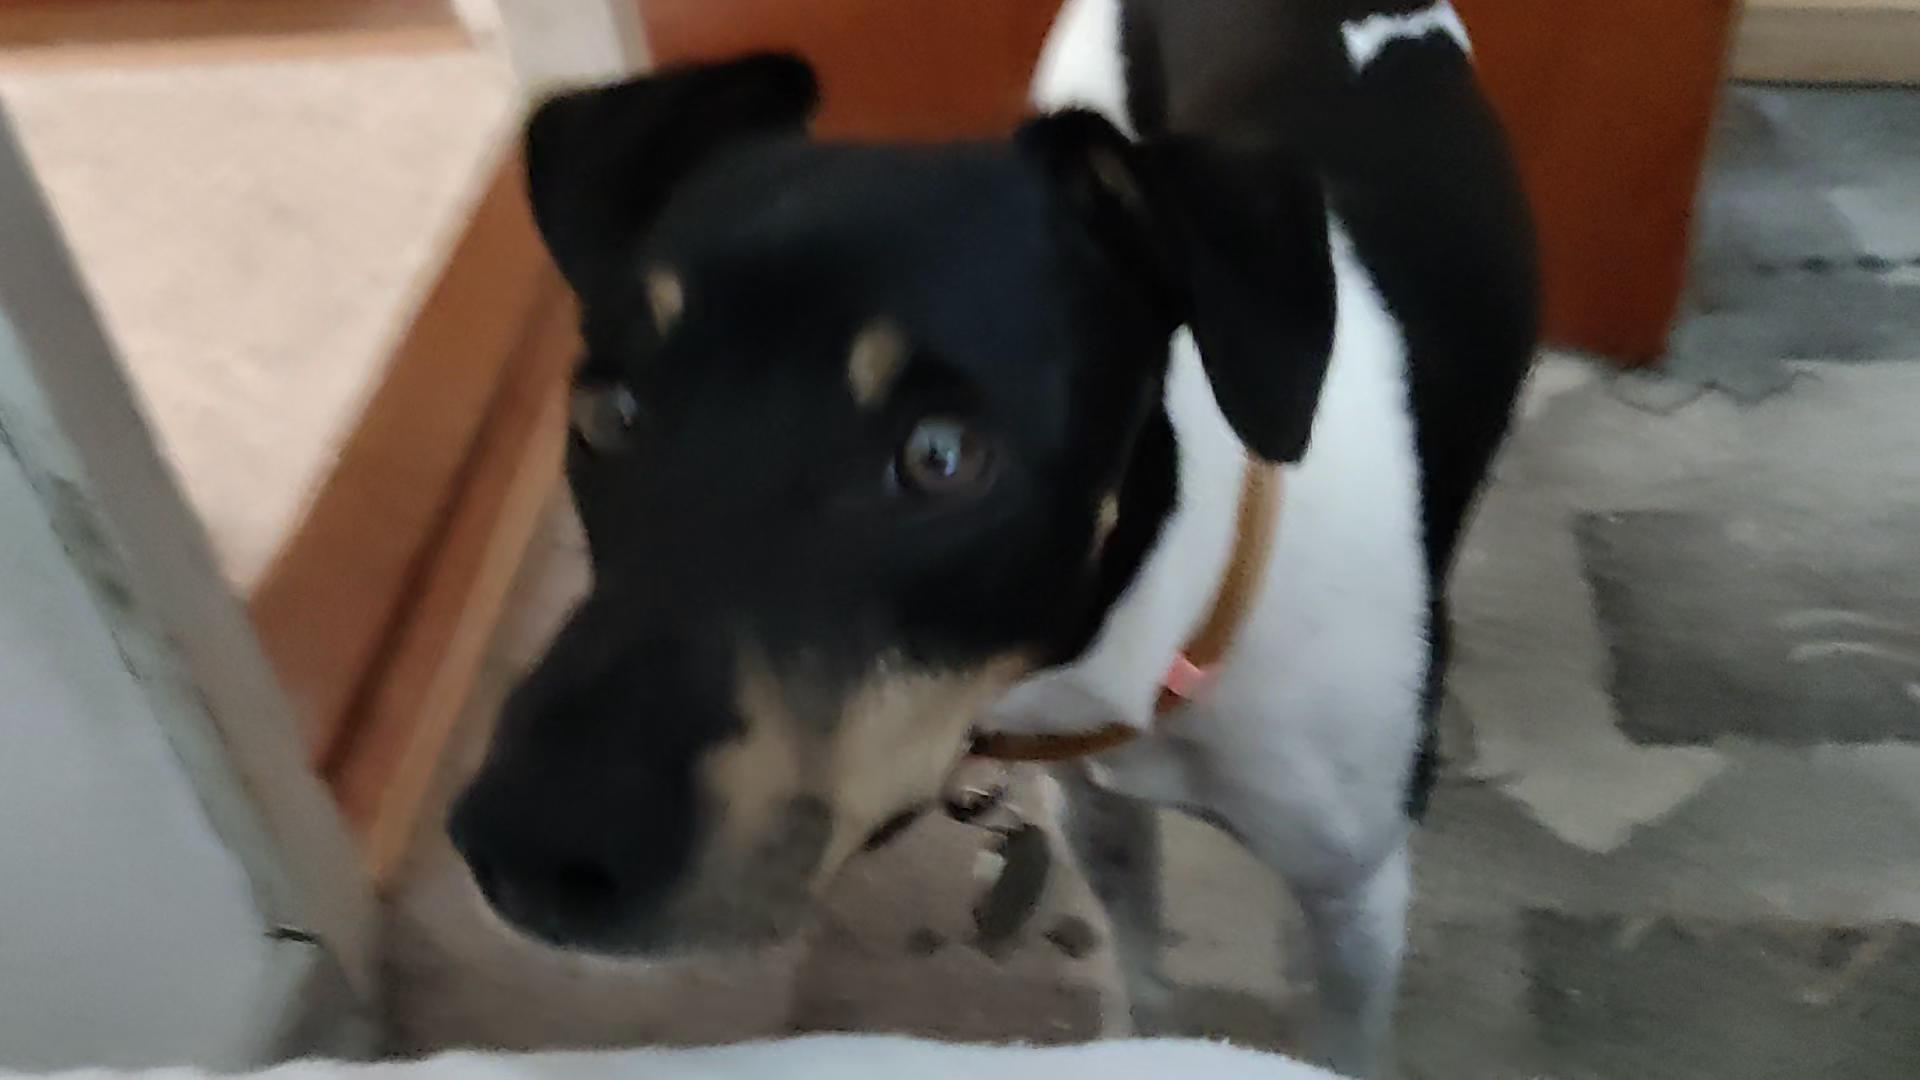Dog: (433, 0, 1548, 1079)
